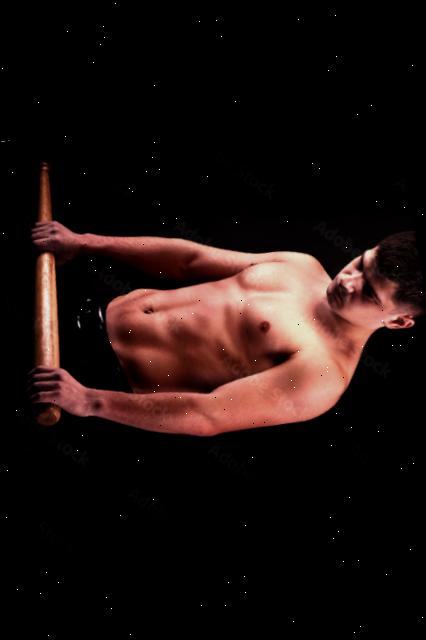baseball bat: (1, 158, 96, 427)
